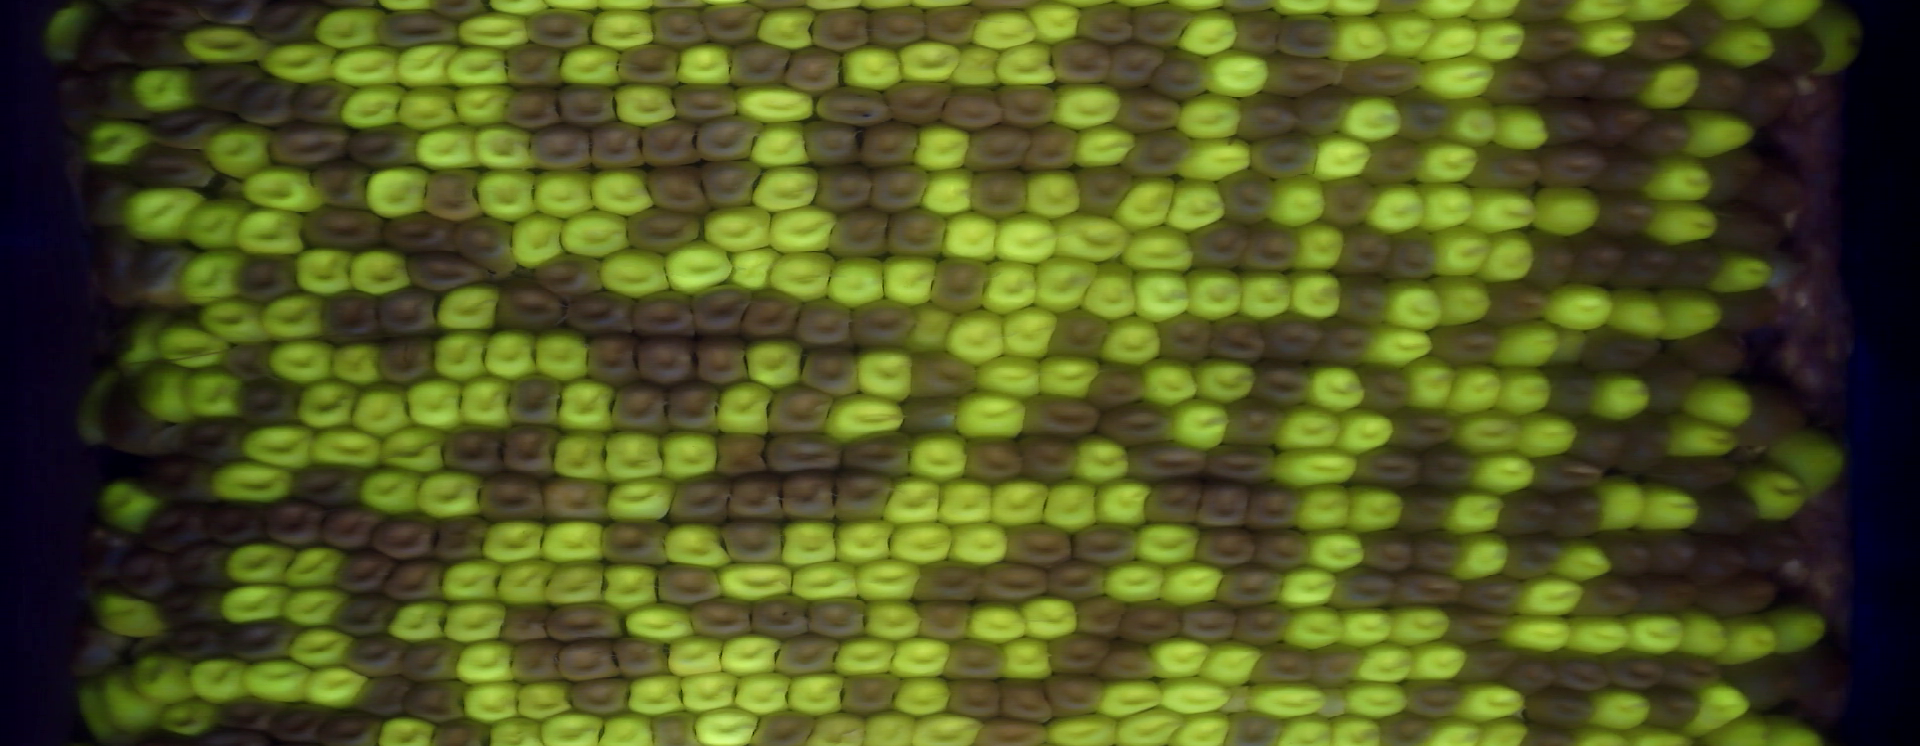fluorescent: (1764, 420, 1851, 503), (113, 180, 214, 250), (91, 663, 174, 737), (171, 244, 256, 314), (1731, 458, 1813, 529), (235, 160, 331, 220), (200, 118, 280, 187), (83, 582, 171, 646), (1798, 4, 1869, 81), (820, 390, 913, 448), (223, 200, 311, 261), (1404, 50, 1502, 105), (1678, 676, 1756, 744), (178, 17, 273, 72), (1678, 370, 1760, 434), (129, 360, 201, 432), (658, 236, 736, 303), (1048, 209, 1140, 266), (87, 475, 171, 537), (1646, 282, 1727, 345), (344, 379, 422, 443), (399, 370, 475, 436), (1673, 105, 1760, 163), (192, 292, 276, 352), (1293, 353, 1373, 415), (591, 244, 676, 303), (709, 374, 779, 445), (1704, 610, 1787, 670), (1267, 441, 1365, 491), (1640, 194, 1727, 250), (173, 194, 256, 252), (1630, 477, 1708, 539), (451, 369, 520, 439), (109, 310, 178, 381), (1636, 149, 1720, 207), (849, 341, 923, 405), (1408, 131, 1487, 192), (204, 454, 298, 506), (763, 246, 842, 306), (1529, 180, 1609, 240), (546, 423, 621, 486), (408, 465, 489, 524), (1633, 55, 1709, 118), (1703, 13, 1780, 75), (949, 388, 1035, 443), (771, 512, 853, 570), (359, 160, 437, 220), (940, 304, 1013, 369), (551, 376, 623, 441), (1095, 311, 1169, 374), (1116, 220, 1200, 276), (902, 115, 978, 176), (1029, 254, 1104, 315), (69, 366, 121, 454), (263, 331, 342, 390), (819, 251, 891, 315), (1660, 407, 1744, 462), (1048, 77, 1128, 135), (373, 423, 453, 480), (78, 111, 154, 171), (877, 472, 953, 532), (762, 202, 842, 258), (601, 472, 683, 527), (658, 516, 740, 571), (152, 320, 238, 372), (238, 420, 323, 473), (1036, 474, 1108, 537), (598, 425, 670, 488), (1160, 175, 1232, 238), (1359, 178, 1431, 240), (1463, 179, 1542, 236), (529, 164, 602, 225), (130, 649, 203, 710), (732, 80, 822, 130), (222, 537, 305, 590), (1506, 570, 1589, 624), (738, 333, 814, 392), (1198, 44, 1273, 103), (238, 655, 318, 710), (449, 633, 527, 691), (1185, 350, 1262, 408), (1378, 273, 1449, 336), (1427, 269, 1498, 332), (291, 374, 364, 435), (1261, 171, 1333, 233), (989, 209, 1063, 269), (932, 206, 1007, 265), (343, 240, 418, 299), (653, 426, 727, 485), (976, 254, 1043, 318), (558, 207, 634, 265), (902, 428, 978, 485), (353, 463, 429, 521), (873, 247, 943, 310), (987, 40, 1068, 94), (1358, 320, 1439, 374), (1267, 401, 1348, 454), (473, 162, 544, 223), (1019, 164, 1090, 225), (1163, 393, 1234, 454), (334, 78, 411, 135), (178, 365, 250, 425), (1471, 225, 1543, 285), (748, 160, 827, 216), (1168, 89, 1247, 145), (1599, 285, 1673, 344), (1758, 601, 1832, 660), (1171, 135, 1256, 185), (584, 163, 659, 220), (1509, 405, 1583, 463), (890, 36, 970, 89), (965, 2, 1044, 56), (1540, 281, 1620, 334), (524, 323, 594, 385), (1229, 263, 1300, 323), (1303, 127, 1374, 187), (1429, 220, 1500, 281), (441, 40, 522, 93), (831, 40, 912, 93), (744, 116, 822, 171), (475, 514, 552, 570), (1449, 405, 1526, 461), (1193, 635, 1270, 690), (1335, 89, 1407, 148), (409, 120, 482, 178), (467, 118, 540, 175), (972, 352, 1051, 405), (1463, 446, 1542, 500), (1138, 631, 1216, 685), (1078, 256, 1142, 321), (255, 289, 329, 345), (1109, 173, 1177, 235), (699, 202, 779, 255), (1129, 518, 1209, 571), (1704, 245, 1780, 300), (69, 675, 127, 746), (1131, 353, 1202, 412), (931, 473, 1003, 530), (961, 593, 1033, 650), (1584, 367, 1657, 425), (253, 40, 340, 88), (616, 600, 703, 648), (938, 40, 1011, 97), (1396, 350, 1461, 414), (1589, 470, 1652, 537), (479, 323, 546, 385), (1180, 263, 1248, 325), (1014, 590, 1089, 646), (1411, 176, 1480, 235), (1490, 610, 1578, 657), (302, 424, 388, 472), (782, 557, 868, 605), (184, 653, 260, 707), (300, 661, 376, 715), (290, 243, 362, 299), (1322, 11, 1395, 67), (1490, 317, 1562, 374), (506, 206, 568, 271), (436, 552, 509, 608), (986, 474, 1053, 534), (283, 620, 361, 671), (1280, 265, 1348, 323), (883, 516, 958, 570), (1172, 5, 1243, 61), (553, 40, 629, 93), (1153, 557, 1229, 610), (1382, 598, 1458, 650), (751, 1, 823, 56), (448, 80, 520, 135), (830, 514, 902, 570), (432, 278, 498, 338), (1561, 608, 1638, 659), (126, 62, 200, 116), (426, 326, 493, 385), (1125, 265, 1193, 323), (1441, 363, 1509, 421), (1090, 673, 1171, 722), (1436, 94, 1505, 152), (713, 557, 802, 601), (1582, 685, 1660, 735), (1068, 431, 1138, 488), (310, 2, 389, 51), (1668, 603, 1733, 663), (1068, 120, 1140, 174), (1300, 523, 1373, 577), (276, 540, 353, 590), (849, 554, 926, 604), (828, 631, 905, 681), (393, 82, 467, 135), (1033, 348, 1107, 401), (1615, 608, 1689, 660), (1089, 474, 1157, 530), (1441, 484, 1510, 540), (1153, 673, 1234, 720), (1450, 677, 1531, 725), (607, 78, 682, 130), (436, 594, 511, 646), (623, 670, 698, 722), (326, 40, 404, 89), (454, 9, 536, 55), (900, 299, 965, 358), (1344, 639, 1420, 690), (1545, 533, 1618, 586), (994, 303, 1062, 359), (1490, 363, 1558, 419), (589, 559, 666, 608), (715, 630, 789, 681), (1488, 100, 1556, 156), (1244, 677, 1332, 720), (940, 519, 1015, 570), (534, 516, 609, 566), (37, 1, 96, 65), (279, 583, 358, 631), (673, 39, 744, 92), (1371, 6, 1438, 62), (1343, 480, 1409, 537), (1464, 11, 1533, 65), (1333, 601, 1402, 655), (1278, 601, 1352, 652), (492, 555, 562, 608), (915, 162, 980, 218), (1293, 479, 1358, 535), (1098, 557, 1171, 608), (587, 4, 662, 51), (213, 582, 295, 626), (1331, 405, 1400, 458), (857, 595, 931, 644), (779, 669, 849, 720), (1449, 530, 1513, 586), (1401, 635, 1472, 685), (1335, 677, 1416, 722), (541, 559, 613, 608), (996, 633, 1064, 685), (1018, 1, 1091, 49), (383, 597, 453, 647), (729, 668, 793, 722), (392, 40, 463, 89), (887, 635, 958, 684), (508, 675, 583, 722), (659, 632, 731, 680), (1288, 219, 1351, 274), (676, 666, 743, 717), (1109, 704, 1190, 746), (327, 341, 392, 392), (1416, 13, 1483, 62), (1275, 563, 1343, 611), (1571, 15, 1643, 60), (688, 703, 764, 746), (888, 670, 958, 717), (722, 243, 784, 294), (1041, 709, 1127, 746), (460, 677, 528, 724), (153, 697, 224, 741), (531, 707, 610, 746), (589, 706, 665, 746), (1160, 706, 1233, 746), (909, 709, 988, 746), (372, 710, 447, 746), (857, 707, 924, 746), (484, 710, 557, 746), (1416, 714, 1496, 746), (801, 709, 871, 746), (1543, 322, 1596, 370), (1273, 712, 1341, 746), (1324, 710, 1387, 746), (1472, 713, 1533, 746)
nonfluorescent: (100, 369, 173, 462), (1716, 650, 1809, 719), (118, 445, 217, 506), (899, 337, 984, 405), (122, 138, 220, 197), (1725, 383, 1815, 447), (73, 58, 156, 126), (293, 198, 391, 255), (65, 519, 137, 595), (142, 98, 235, 157), (789, 341, 873, 402), (1663, 326, 1755, 382), (42, 58, 108, 135), (758, 377, 841, 439), (823, 464, 902, 528), (449, 209, 522, 279), (400, 243, 493, 296), (1733, 60, 1805, 129), (1679, 483, 1772, 535), (620, 202, 707, 258), (1577, 49, 1660, 108), (263, 118, 354, 171), (836, 424, 921, 481), (820, 200, 894, 266), (1258, 307, 1331, 374), (1680, 53, 1753, 119), (73, 156, 137, 232), (842, 292, 924, 350), (1577, 320, 1667, 374), (260, 491, 332, 557), (1213, 394, 1293, 454), (474, 467, 553, 527), (880, 202, 956, 265), (756, 426, 850, 477), (1529, 363, 1611, 420), (1604, 232, 1682, 292), (1011, 421, 1082, 488), (185, 58, 264, 116), (1333, 49, 1434, 96), (1561, 413, 1636, 475), (1016, 387, 1101, 442), (1707, 200, 1788, 257), (287, 459, 375, 512), (1073, 354, 1151, 413), (225, 372, 304, 431), (58, 624, 136, 682), (1146, 305, 1220, 367), (493, 420, 567, 483), (1587, 186, 1670, 241), (1531, 138, 1614, 194), (1462, 138, 1542, 196), (1731, 514, 1811, 572), (538, 599, 636, 646), (1479, 51, 1555, 111), (342, 119, 422, 175), (538, 474, 618, 530), (1584, 187, 1669, 241), (606, 372, 673, 440), (598, 514, 675, 573), (315, 283, 384, 348), (1638, 644, 1728, 695), (643, 159, 718, 219), (1068, 160, 1142, 220), (1231, 85, 1305, 145), (781, 293, 856, 353), (1313, 171, 1387, 232), (1760, 20, 1836, 78), (996, 517, 1080, 570), (1147, 43, 1217, 107), (770, 461, 840, 524), (495, 279, 567, 341), (627, 328, 699, 390), (650, 556, 732, 610), (1697, 146, 1776, 202), (495, 367, 568, 428), (904, 555, 989, 606), (562, 287, 642, 342), (167, 412, 256, 461), (1611, 405, 1678, 472), (660, 374, 727, 439), (1232, 218, 1308, 276), (684, 281, 753, 344), (1329, 269, 1400, 331), (1491, 480, 1562, 541), (1119, 126, 1196, 183), (1125, 436, 1210, 488), (1258, 50, 1348, 98), (1201, 435, 1283, 488), (862, 158, 936, 217), (1093, 401, 1182, 450), (973, 559, 1059, 609), (493, 81, 568, 138), (370, 281, 444, 338), (812, 81, 895, 132), (392, 631, 475, 682), (1286, 78, 1356, 140), (301, 156, 372, 216), (696, 152, 767, 212), (924, 254, 996, 314), (1502, 13, 1587, 64), (988, 76, 1067, 130), (135, 499, 213, 552), (1427, 318, 1509, 370), (959, 121, 1033, 178), (574, 328, 643, 390), (1678, 530, 1757, 583), (733, 285, 803, 345), (1042, 307, 1118, 363), (1656, 236, 1731, 292), (553, 75, 624, 134), (962, 162, 1033, 220), (778, 40, 850, 98), (1139, 472, 1211, 529), (223, 612, 304, 664), (283, 73, 356, 130), (662, 472, 736, 528), (1584, 93, 1658, 149), (890, 392, 969, 445), (1476, 274, 1554, 327), (1708, 282, 1787, 334), (111, 541, 179, 603), (1635, 349, 1702, 410), (1106, 85, 1188, 135), (1731, 162, 1813, 212), (370, 330, 438, 390), (1352, 359, 1420, 419), (246, 1, 337, 47), (688, 111, 768, 163), (1538, 485, 1618, 537), (160, 614, 236, 668), (1273, 10, 1346, 66), (808, 162, 880, 218), (882, 77, 962, 127), (371, 6, 463, 50), (200, 494, 273, 549), (552, 631, 626, 686), (1520, 225, 1581, 292), (1562, 228, 1629, 289), (1213, 167, 1281, 227), (962, 432, 1030, 492), (419, 165, 487, 224), (1244, 130, 1322, 181), (528, 118, 598, 175), (582, 118, 651, 175), (744, 590, 814, 648), (230, 76, 301, 132), (1382, 480, 1468, 527), (1250, 356, 1322, 412), (797, 593, 880, 641), (1524, 450, 1608, 497), (366, 511, 443, 562), (1065, 518, 1142, 570), (720, 37, 793, 91), (796, 113, 863, 171), (560, 673, 640, 722), (435, 415, 503, 473), (1651, 450, 1742, 492), (1693, 571, 1772, 621), (313, 499, 388, 551), (686, 590, 760, 643), (1343, 440, 1425, 488), (989, 674, 1060, 729), (940, 671, 1011, 726), (1360, 132, 1431, 187), (1630, 523, 1706, 575), (377, 209, 457, 258), (629, 287, 702, 341), (1622, 105, 1695, 159), (1330, 220, 1397, 278), (1209, 557, 1286, 608), (1189, 522, 1262, 575), (605, 632, 680, 684), (1406, 439, 1480, 490), (1620, 13, 1698, 62), (937, 80, 1008, 134), (1015, 118, 1086, 171), (855, 113, 920, 171), (324, 589, 400, 639), (1385, 566, 1464, 614), (669, 73, 742, 125), (768, 628, 845, 677), (377, 555, 451, 606), (331, 548, 400, 601), (1540, 47, 1610, 100), (1311, 314, 1381, 367), (1592, 149, 1667, 200), (724, 469, 789, 527), (1551, 641, 1616, 698), (687, 333, 753, 390), (613, 40, 686, 92), (531, 250, 604, 301), (69, 20, 136, 75), (1589, 523, 1658, 577), (1041, 628, 1114, 679), (1573, 573, 1647, 624), (345, 673, 422, 720), (1326, 562, 1403, 610), (718, 516, 787, 568), (1040, 668, 1109, 720), (1378, 404, 1463, 447), (1390, 87, 1453, 145), (1247, 638, 1321, 687), (1204, 311, 1269, 367), (1247, 522, 1318, 573), (938, 632, 1009, 684), (838, 668, 909, 719), (1222, 4, 1289, 58), (398, 671, 467, 724), (264, 693, 333, 746), (1193, 474, 1254, 533), (1071, 1, 1141, 53), (338, 632, 415, 679), (1184, 217, 1249, 272), (694, 2, 769, 50), (1100, 40, 1166, 94), (152, 578, 230, 624), (1520, 684, 1598, 729), (170, 538, 238, 590), (1386, 224, 1447, 282), (520, 7, 600, 51), (1349, 527, 1423, 575), (806, 5, 876, 55), (1127, 2, 1196, 53), (1453, 568, 1531, 614), (636, 116, 702, 169), (1238, 478, 1304, 530), (1068, 590, 1134, 643), (1226, 599, 1297, 648), (1600, 642, 1671, 691), (1093, 636, 1161, 687), (1663, 1, 1730, 53), (1534, 98, 1602, 149), (211, 693, 289, 737), (1048, 36, 1117, 86), (429, 510, 492, 563), (1400, 521, 1469, 570), (1176, 597, 1240, 649), (1632, 684, 1709, 728), (864, 1, 936, 49), (1041, 559, 1112, 606), (1498, 530, 1566, 579), (1117, 595, 1183, 646), (312, 703, 389, 746), (907, 594, 975, 643), (1632, 570, 1701, 617), (1393, 677, 1469, 720), (1305, 639, 1367, 692), (500, 637, 564, 686), (740, 707, 820, 746), (1431, 605, 1515, 643), (504, 39, 564, 92), (967, 712, 1057, 746), (917, 4, 984, 49), (713, 430, 778, 477), (122, 29, 197, 70), (220, 336, 280, 386), (1501, 642, 1562, 691), (493, 598, 556, 646), (644, 6, 711, 49), (645, 704, 711, 746), (1452, 638, 1522, 677), (1224, 708, 1294, 746), (129, 1, 207, 33), (185, 1, 266, 29), (426, 715, 496, 746), (200, 720, 279, 746), (1378, 708, 1431, 746), (422, 1, 496, 22), (1512, 723, 1567, 746)
